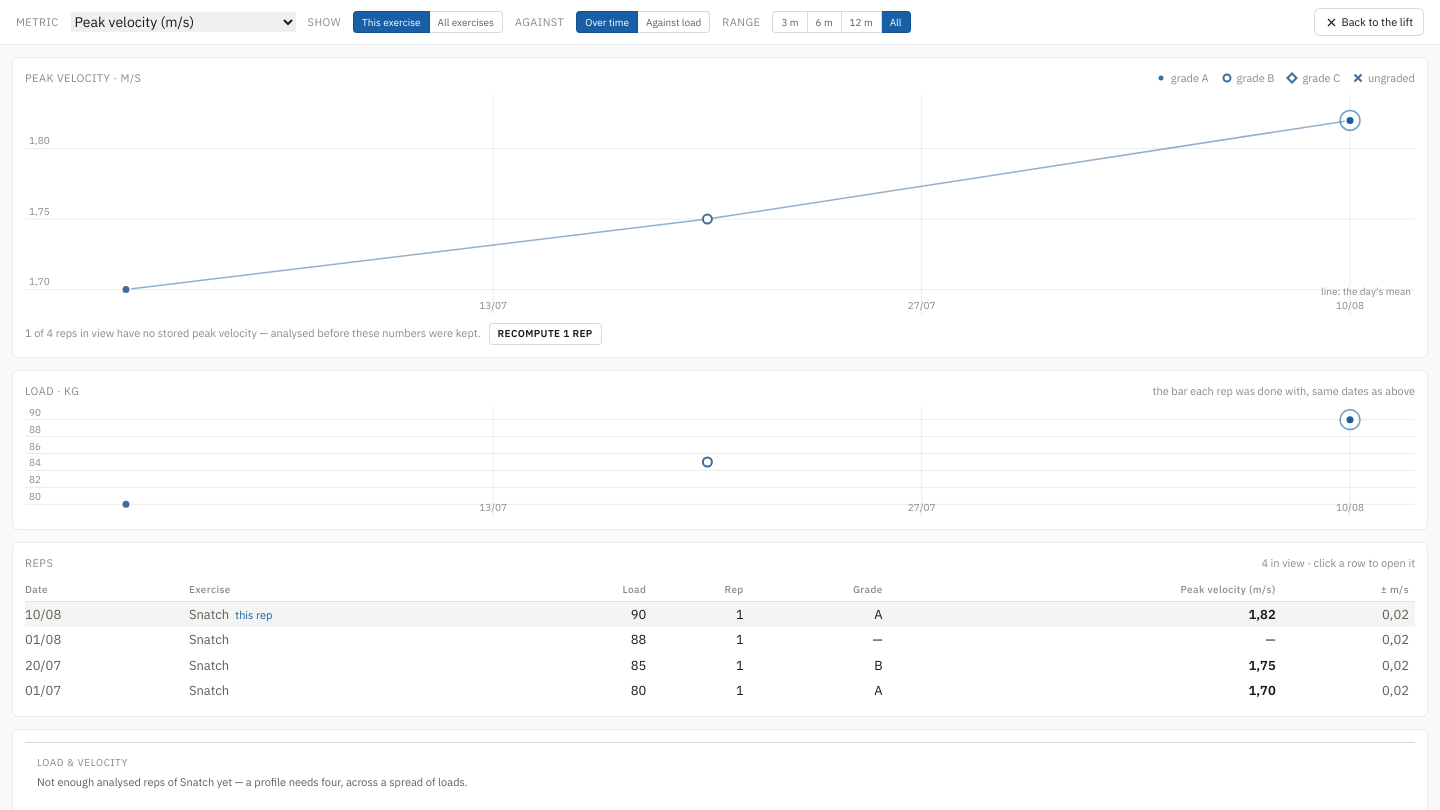
Test: TrendsView › recomputes the stale reps, reports the outcome and reads the history again
Click the button "RECOMPUTE 1 REP". click: (545, 334)
box: [489,322,602,344]
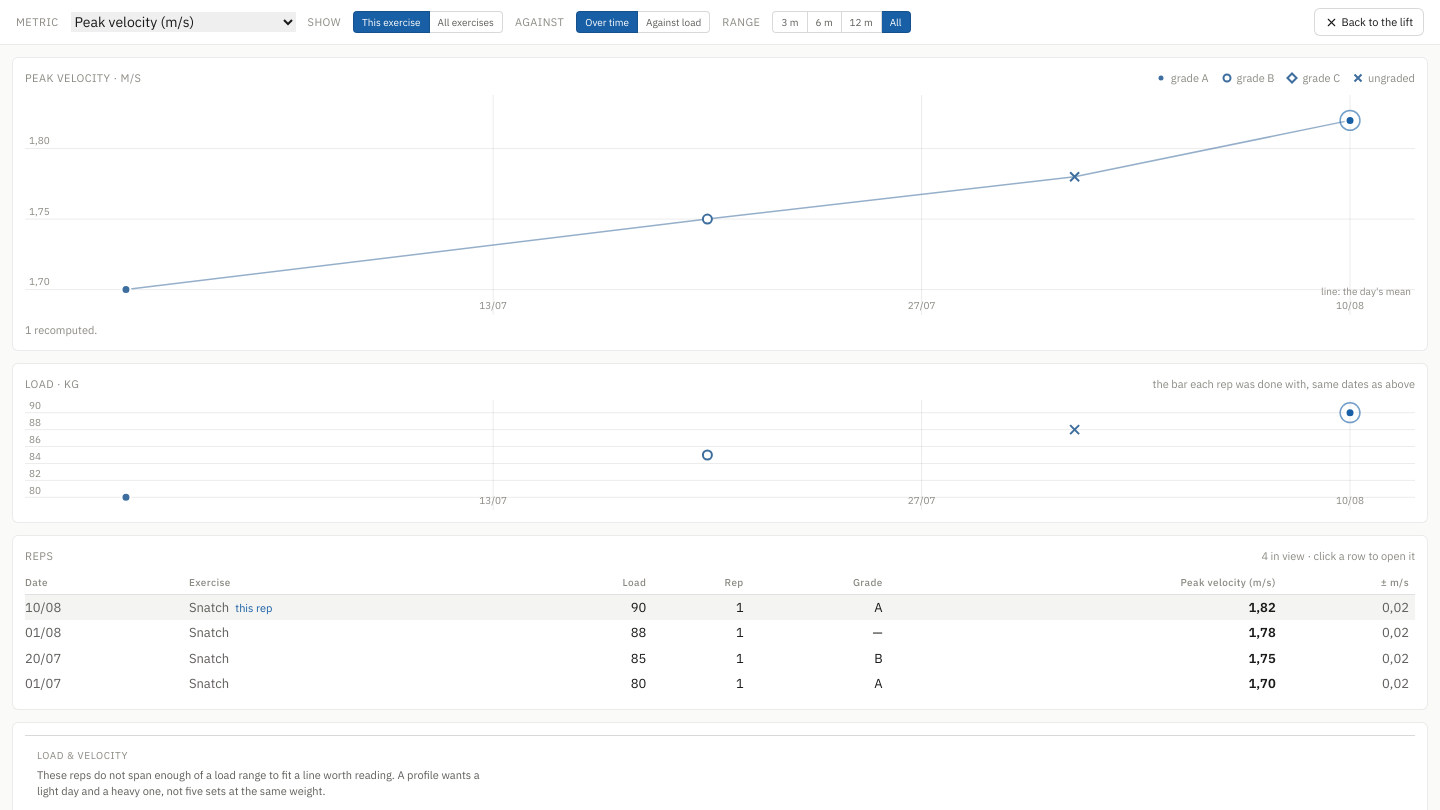
Result: the text "1 recomputed." is shown at [25,322,97,338]
Result: the text "have no stored peak velocity" is gone
